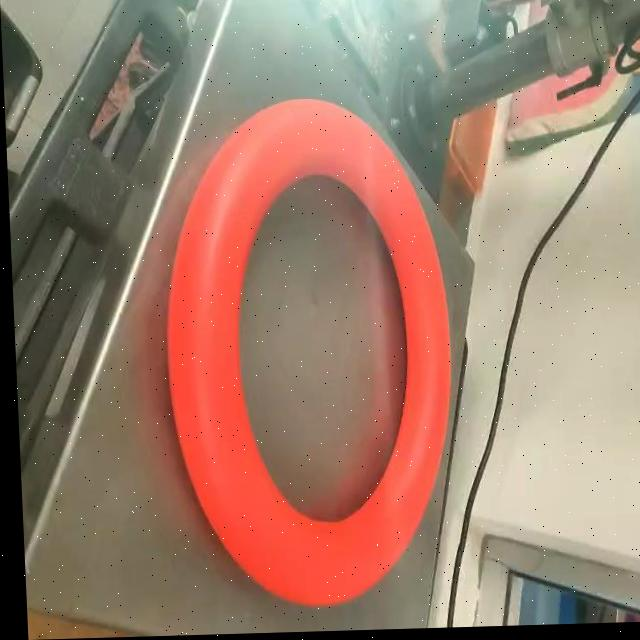note: (142, 90, 465, 615)
